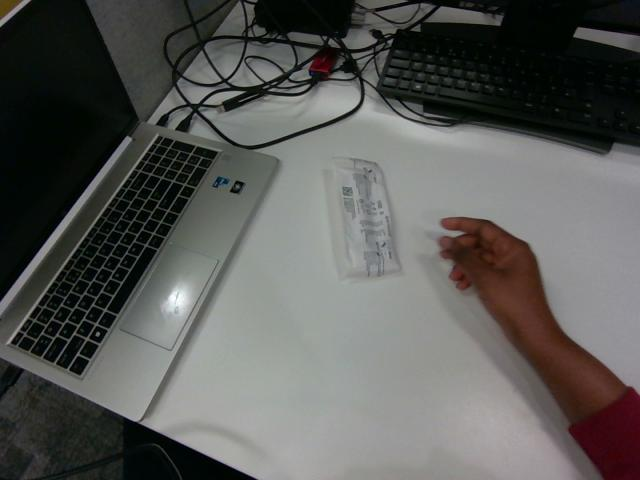syringe: (334, 157, 399, 277)
